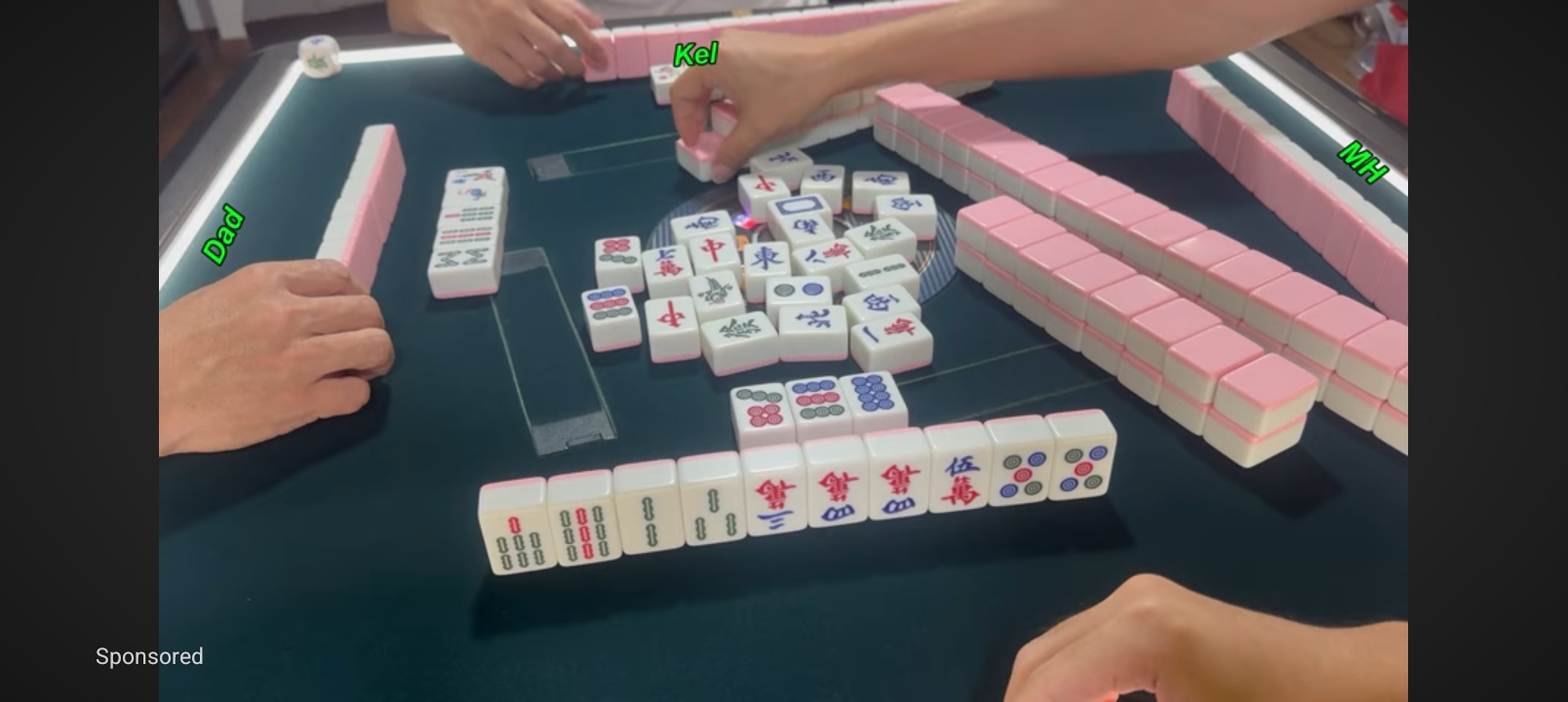TILE: (478, 506, 553, 577), (549, 501, 620, 565), (614, 490, 684, 554), (679, 481, 746, 547), (742, 468, 806, 536), (804, 463, 871, 527), (930, 450, 993, 513), (1054, 441, 1117, 503), (870, 456, 931, 520), (993, 443, 1054, 505), (728, 383, 792, 432), (786, 377, 846, 424), (846, 372, 909, 415)
